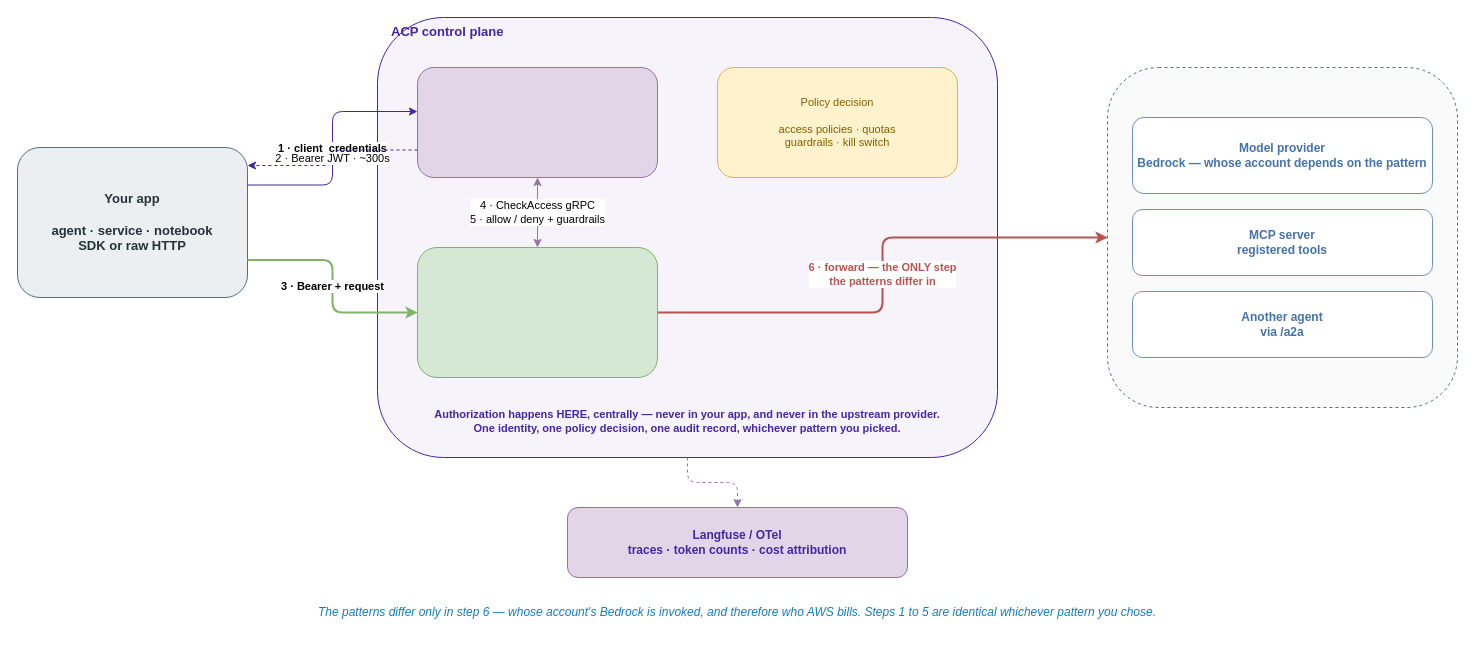
This 1475x647 diagram has some shape labels left out. Here are the shapes that lost their labels. From the top down, the box of each, then its label:
(416, 66, 658, 178): Portal /api/v1/iam/auth/token CheckAccess
(1106, 66, 1458, 408): Upstream
(416, 246, 658, 378): Gateway /llm · /mcp · /a2a
